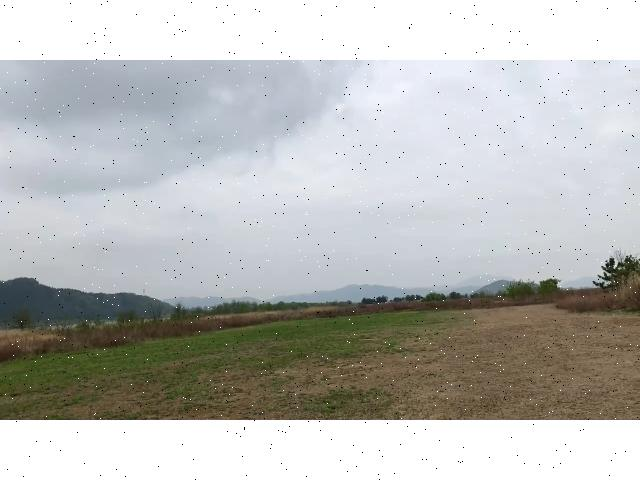Anti-Drone: (379, 219, 397, 231)
